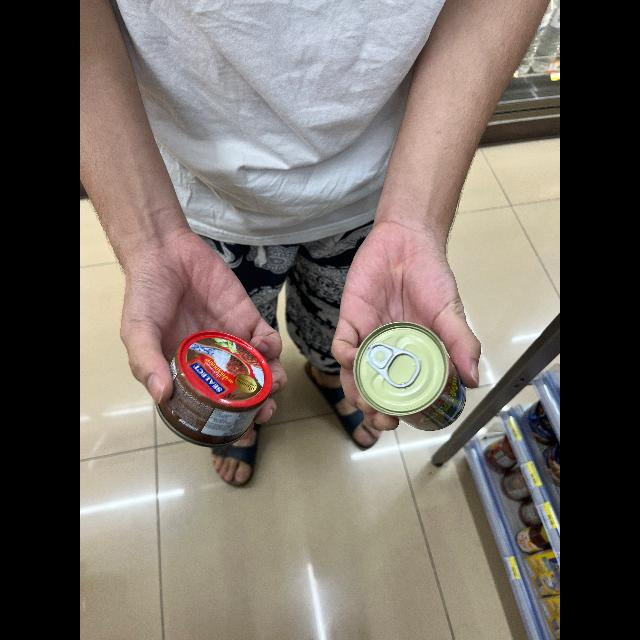can: (146, 331, 276, 442), (345, 326, 475, 436)
